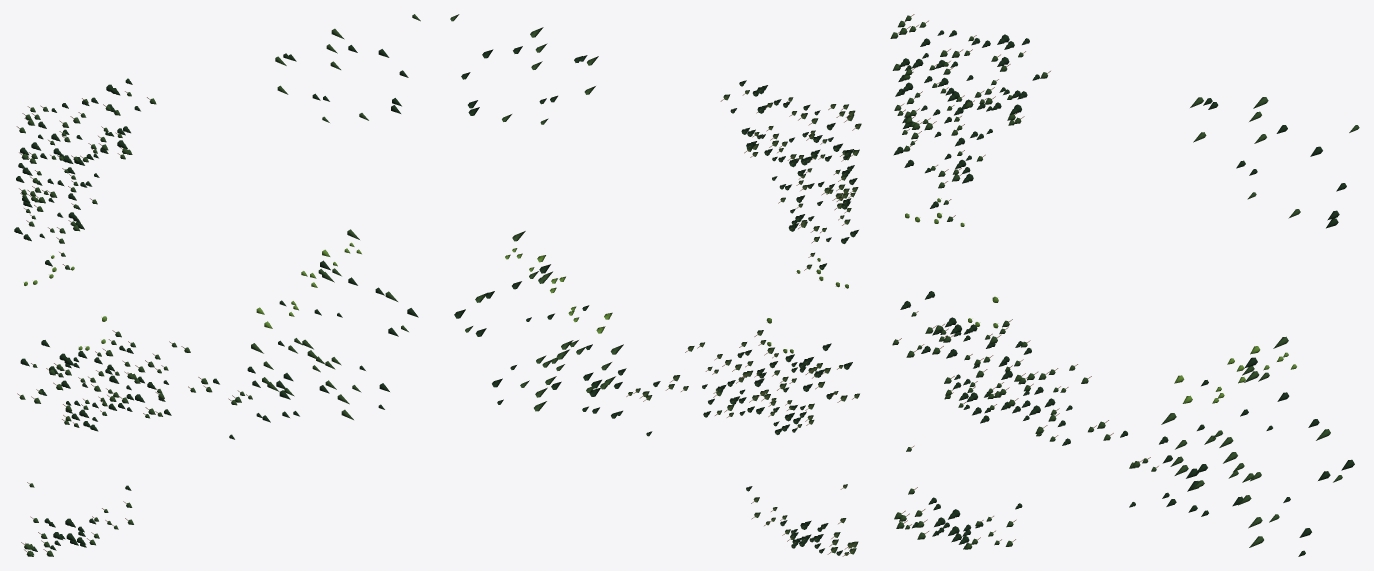
Rendered from forest_13.obj.
The picture shows the model from 3 angles, left to right: view 1: azimuth 30°, elevation 25°; view 2: azimuth 150°, elevation 25°; view 3: azimuth 330°, elevation 25°; orthographic projection. The views are drawn at different scales.
Size of the model in its own units: 514 by 554 by 41.62.
